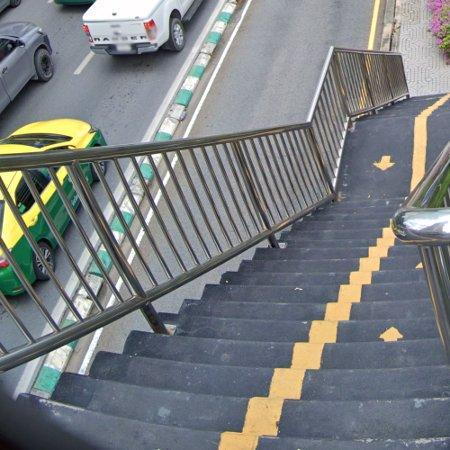stairs: (20, 96, 450, 450)
